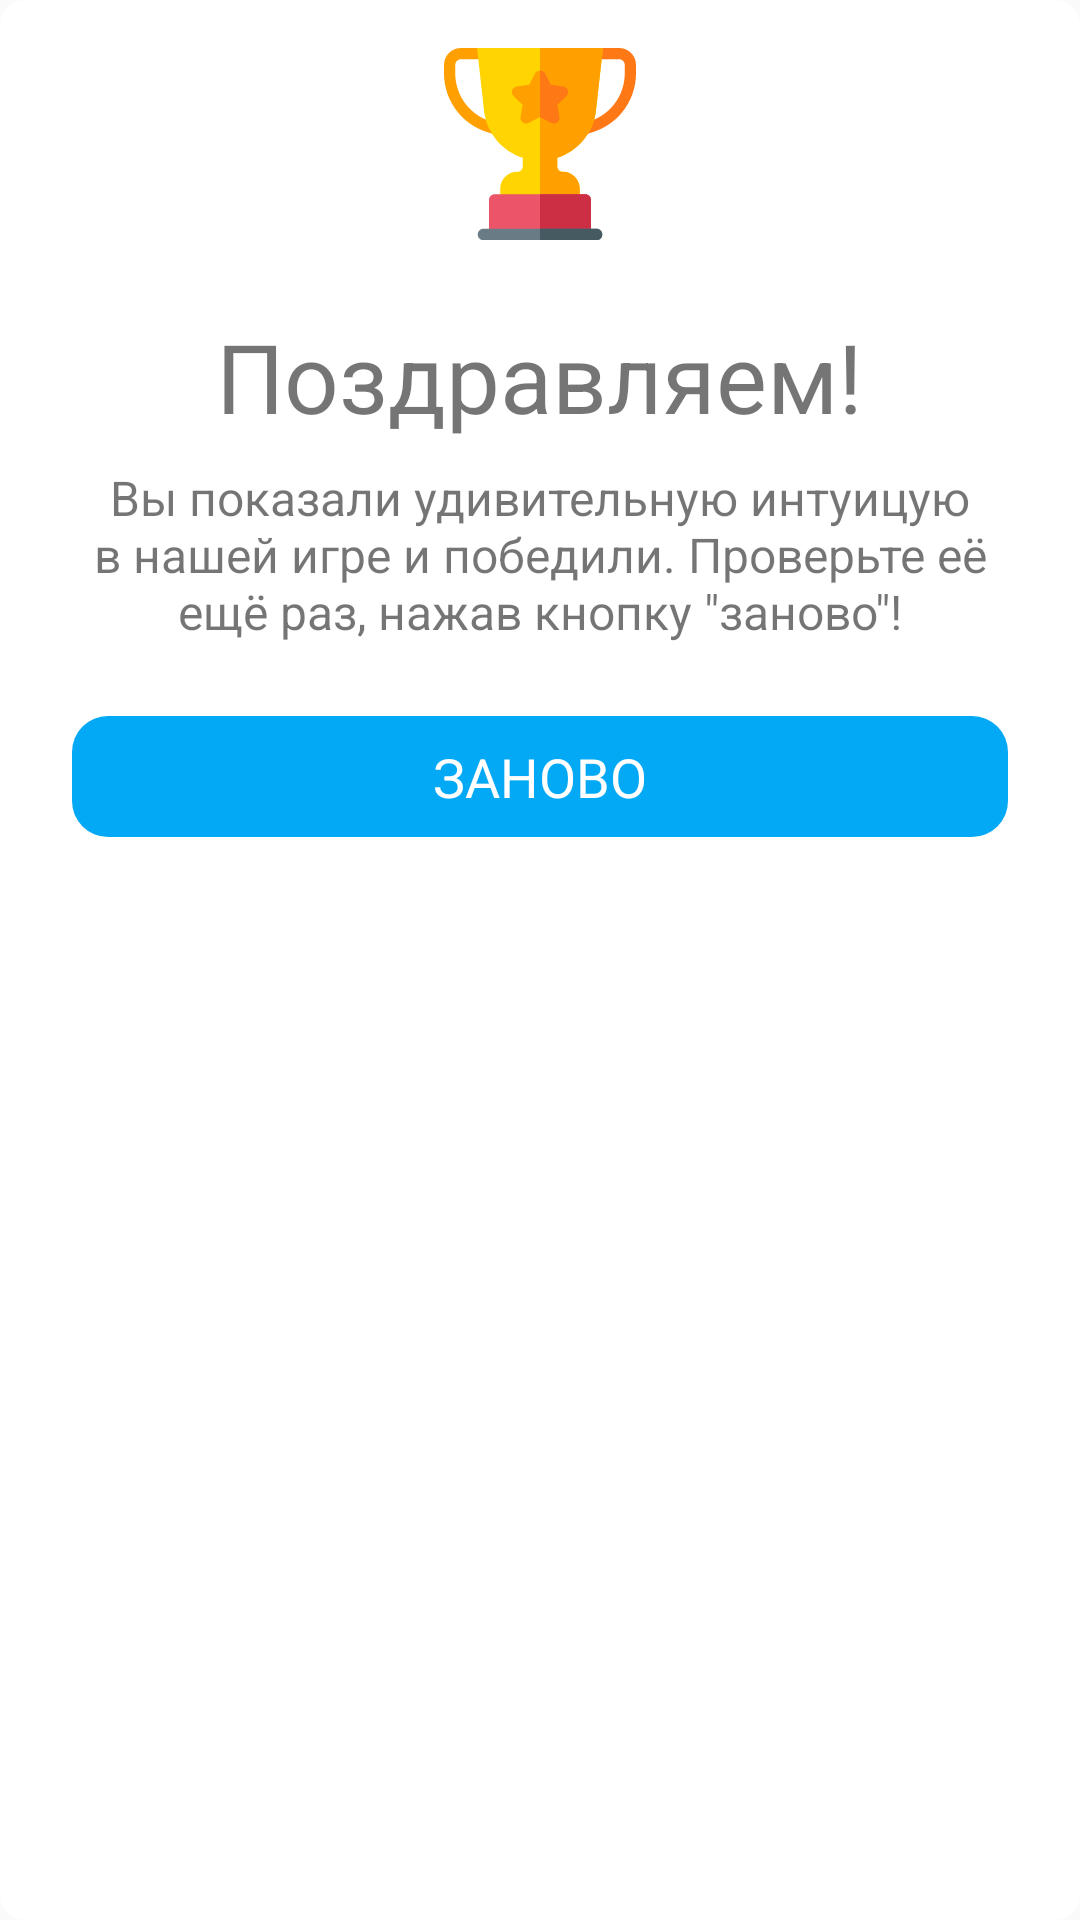

Where icons sit on this 1080w x 1920h app screen, as detection(x1, y1, x2, y2):
cup: detection(444, 48, 636, 240)
